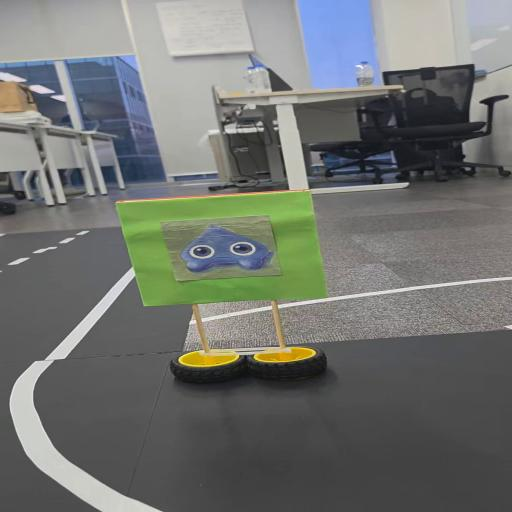Sign_B: (108, 187, 344, 387)
